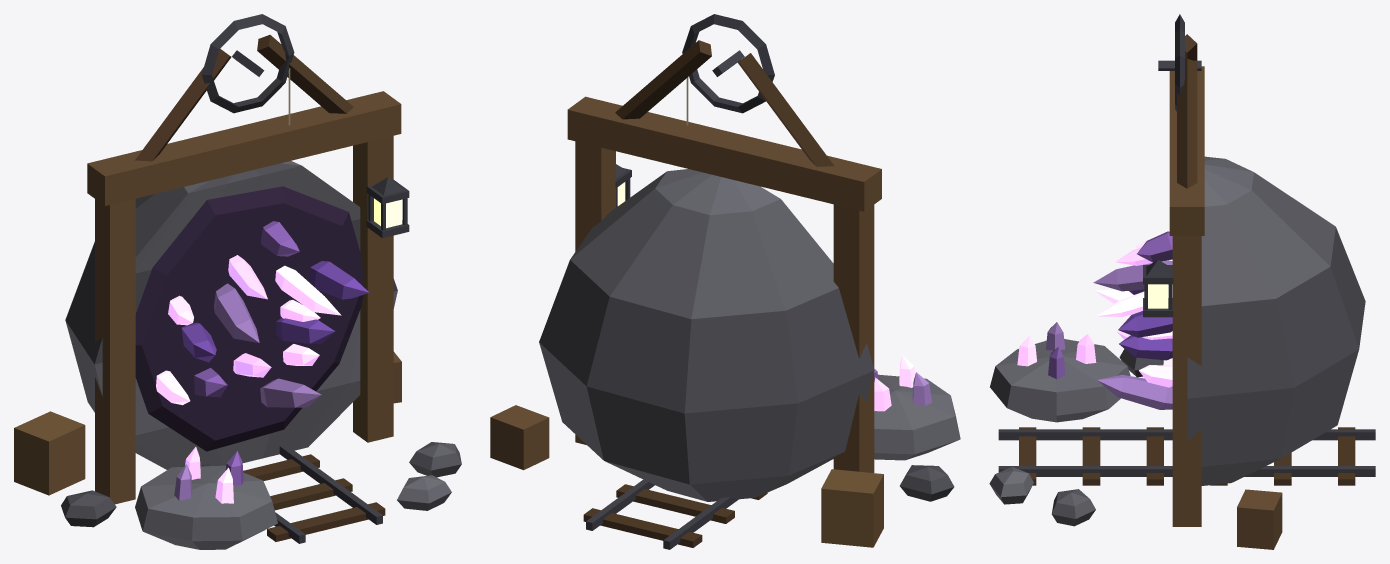
The model's file is mines.glb.
3 views of the same model, side by side, from view 1: azimuth 30°, elevation 25°; view 2: azimuth 150°, elevation 25°; view 3: azimuth 270°, elevation 25° (orthographic). The views are drawn at different scales.
Visible parts, largest first — view 1: mines_giant_geode_a, mines_headframe_a; view 2: mines_giant_geode_a, mines_headframe_a; view 3: mines_giant_geode_a, mines_headframe_a.
Boxes of the visible parts, x1=… form: mines_giant_geode_a: x1=61, y1=161, x2=461, y2=549; mines_headframe_a: x1=14, y1=14, x2=409, y2=543; mines_giant_geode_a: x1=539, y1=169, x2=960, y2=501; mines_headframe_a: x1=490, y1=14, x2=883, y2=549; mines_giant_geode_a: x1=989, y1=156, x2=1365, y2=526; mines_headframe_a: x1=998, y1=14, x2=1375, y2=549.
Size of the model in its own units: 3.06 by 3.34 by 2.66.
